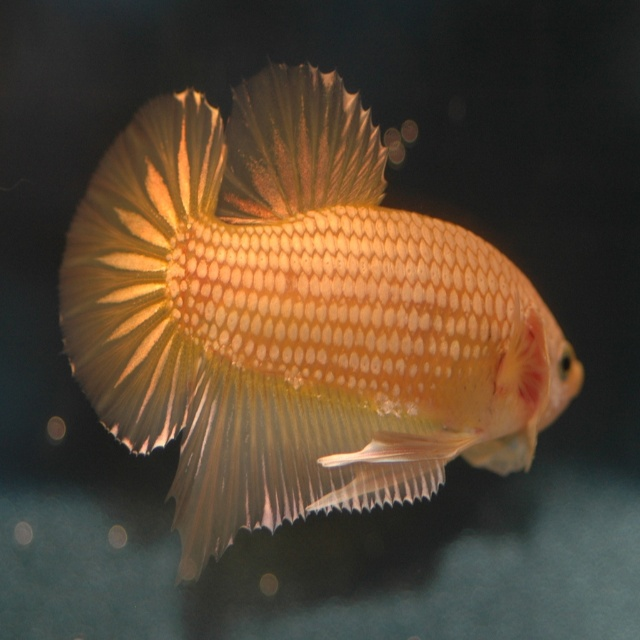Fish: (39, 76, 574, 550)
